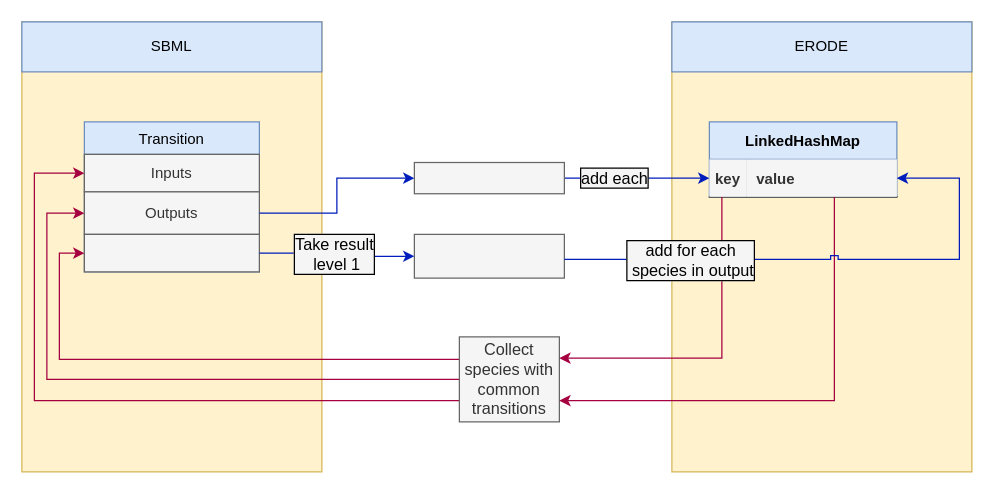
Some shapes in this 994 by 494 pixel diagram are drawn without their labels. The shapes that lost their labels are listed below. From the top down, each one's centre as x and y in pixels, then its label:
(488,177): Extract Species IDs
(171,252): FunctionTerms
(488,255): Convert to ERODE AST
